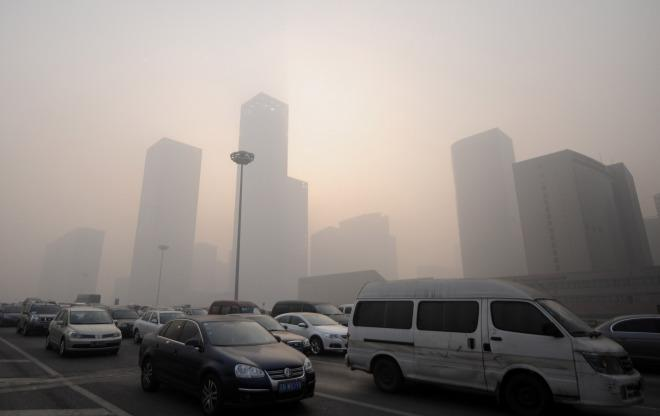car: (344, 273, 644, 416), (137, 311, 316, 414), (212, 310, 312, 365), (43, 306, 121, 357), (273, 311, 355, 357), (588, 310, 660, 359), (269, 299, 354, 337), (131, 308, 194, 343), (207, 299, 267, 331), (15, 301, 66, 338), (104, 304, 144, 336), (1, 304, 27, 326)
